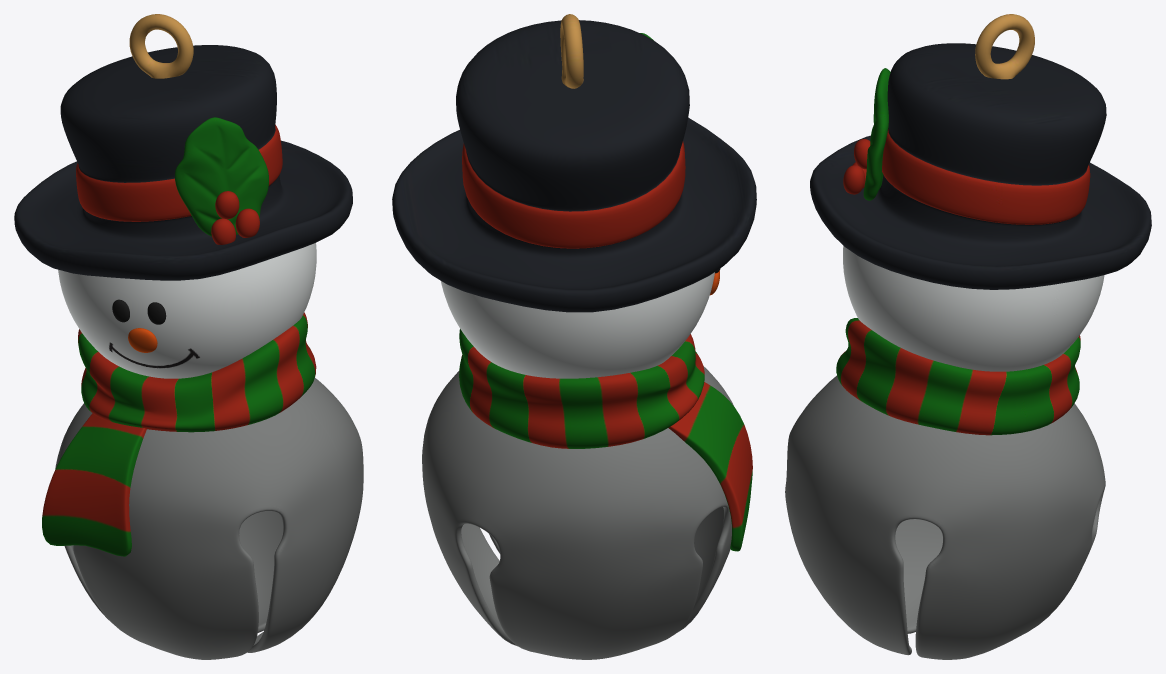
File: 11581_Snowman_V2_l3.obj
The picture shows the model from 3 angles, left to right: view 1: azimuth 30°, elevation 25°; view 2: azimuth 150°, elevation 25°; view 3: azimuth 270°, elevation 25°; orthographic projection. The views are drawn at different scales.
Parts seen in each view (by area): view 1: Snowman, Snowmen_Metall; view 2: Snowman, Snowmen_Metall; view 3: Snowman, Snowmen_Metall.
Boxes of the visible parts, left/top/right/bottom form: Snowman: left=14, top=45, right=352, bottom=556; Snowmen_Metall: left=55, top=14, right=363, bottom=659; Snowman: left=392, top=20, right=756, bottom=551; Snowmen_Metall: left=422, top=14, right=733, bottom=659; Snowman: left=810, top=43, right=1151, bottom=435; Snowmen_Metall: left=785, top=14, right=1105, bottom=659.
Bounding box in the file's own units: 1.75 × 3.45 × 1.85.
2 materials, 2 textured.
